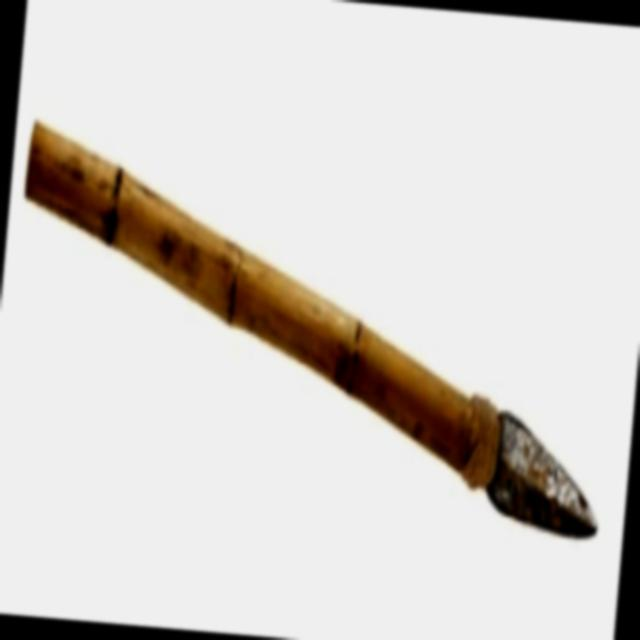spear: (0, 51, 632, 563)
